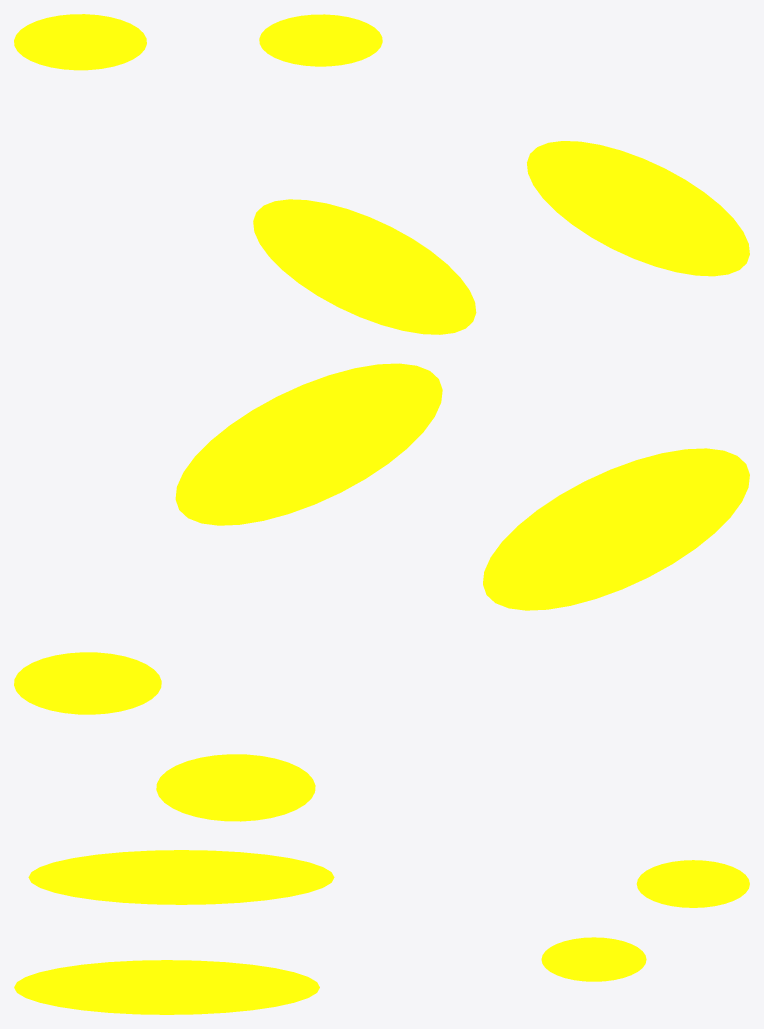
The model's file is rabbit_track.glb.
3 views of the same model, one above another, from view 1: azimuth 30°, elevation 25°; view 2: azimuth 150°, elevation 25°; view 3: azimuth 270°, elevation 25° (orthographic). The views are drawn at different scales.
Visible parts, largest first — view 1: Tracks; view 2: Tracks; view 3: Tracks.
Boxes of the visible parts, box(x1,y1,x2,y2) form: Tracks: box(14, 14, 749, 334); Tracks: box(14, 363, 749, 821); Tracks: box(14, 850, 749, 1014).
Size of the model in its own units: 0.2501 by 0.000271 by 0.4718.
